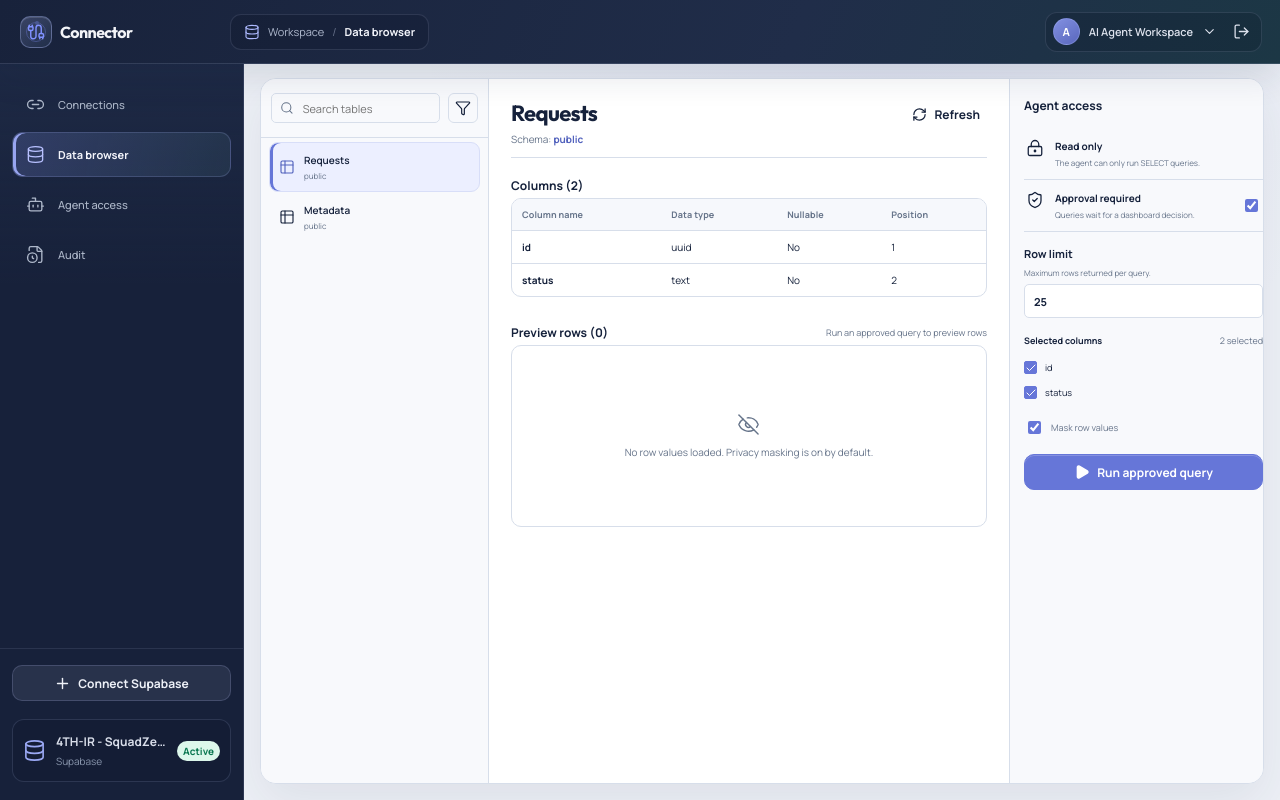
Test case: Connector dashboard › loads the authenticated project and live catalog shape
This screenshot has width=1280, height=800.
Expected: the heading "Requests" is shown, [511,99,597,127]
Expected: the element named "Current page: Data browser" is shown, [230,14,429,50]
Step 1. Click the button "Run approved query" → (1144, 472), box [1024,454,1263,490]
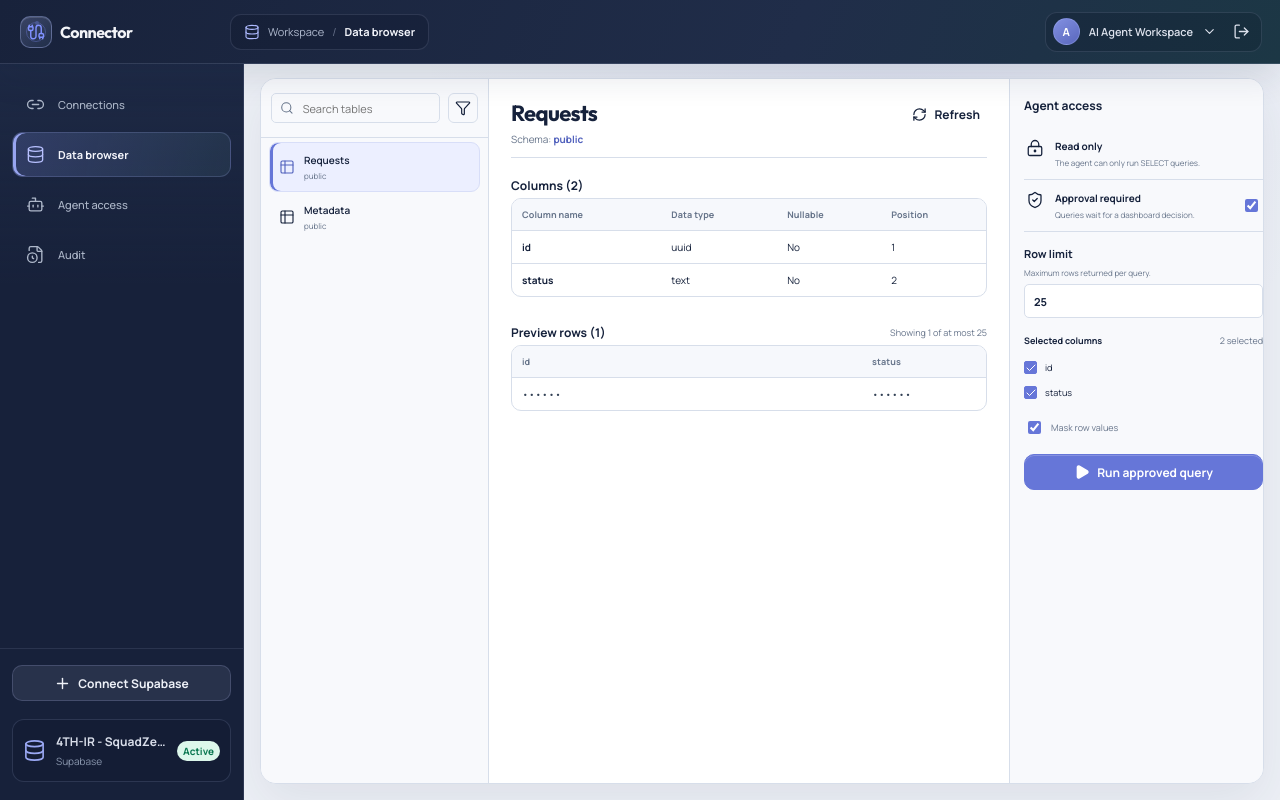
Now the text "••••••" is shown 2 times
